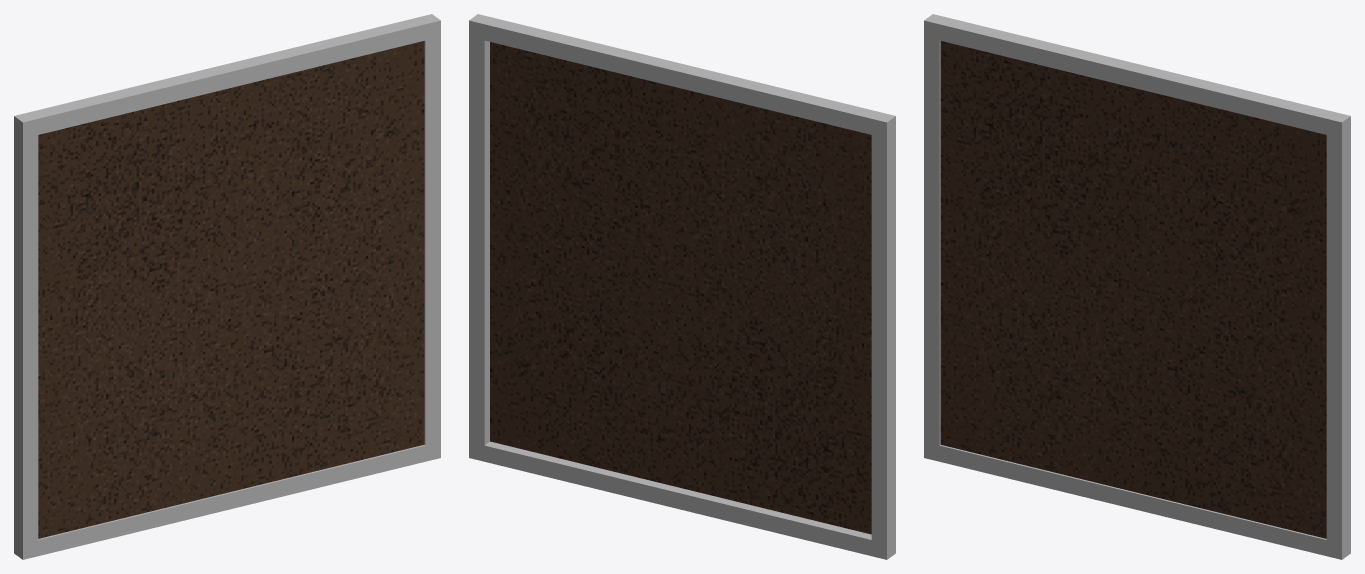
The model's file is MapV5.fbx.
The picture shows the model from 3 angles, left to right: view 1: azimuth 30°, elevation 25°; view 2: azimuth 150°, elevation 25°; view 3: azimuth 330°, elevation 25°; orthographic projection.
Visible parts, largest first — view 1: Ground, BottomWall; view 2: Ground, BottomWall; view 3: Ground, BottomWall.
Part boxes in pixels (<box>): Ground: <box>38,41,424,538</box>; BottomWall: <box>14,14,440,559</box>; Ground: <box>490,42,871,534</box>; BottomWall: <box>469,14,895,559</box>; Ground: <box>940,41,1326,538</box>; BottomWall: <box>924,14,1350,559</box>.
Bounding box in the file's own units: 8100 × 300 × 8100.
